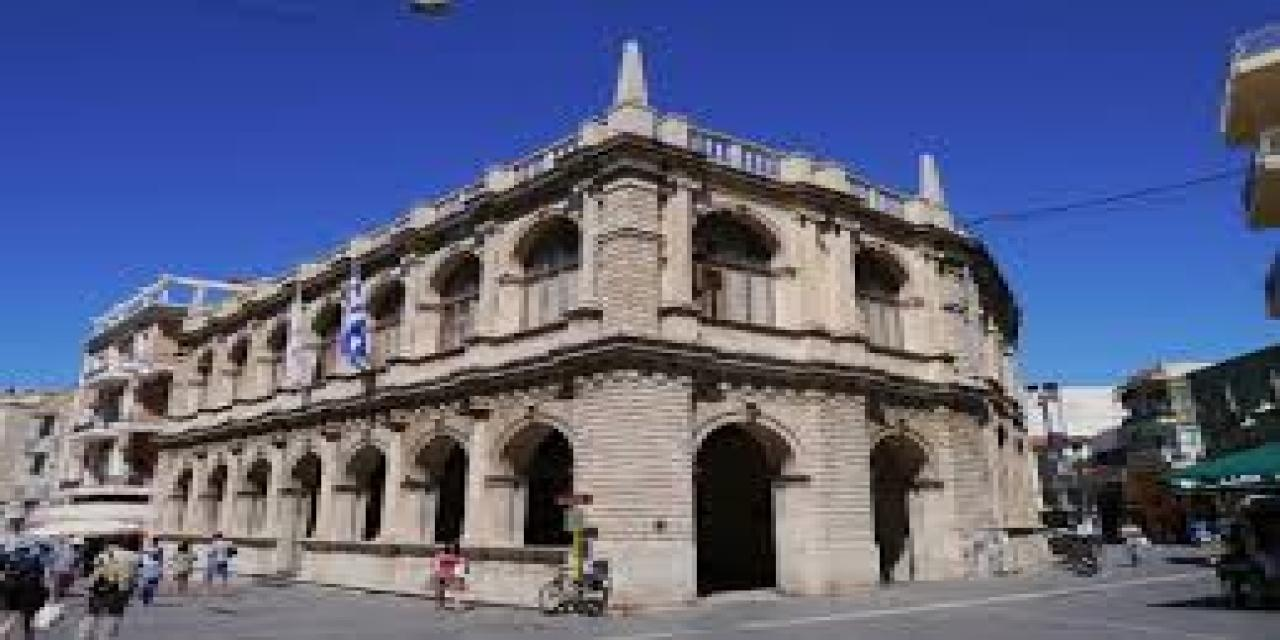Loggia: (152, 32, 1078, 608)
